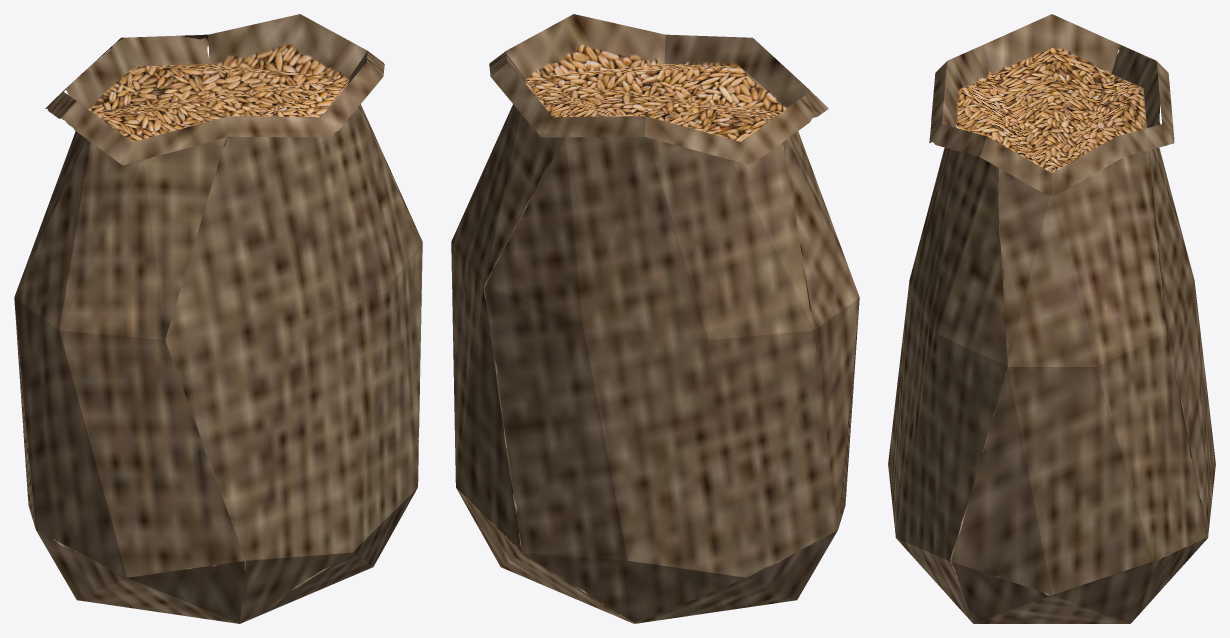
Rendered from bag.fbx.
3 renders of one model, left to right at view 1: azimuth 30°, elevation 25°; view 2: azimuth 150°, elevation 25°; view 3: azimuth 270°, elevation 25°, orthographic. The views are drawn at different scales.
Visible parts, largest first — view 1: Cube; view 2: Cube; view 3: Cube.
Part boxes in pixels (x1,y1,x2,y2): Cube: [14, 14, 422, 623]; Cube: [451, 14, 859, 623]; Cube: [888, 14, 1215, 623].
Size of the model in its own units: 151 by 198 by 121.
1 material, 1 textured.
